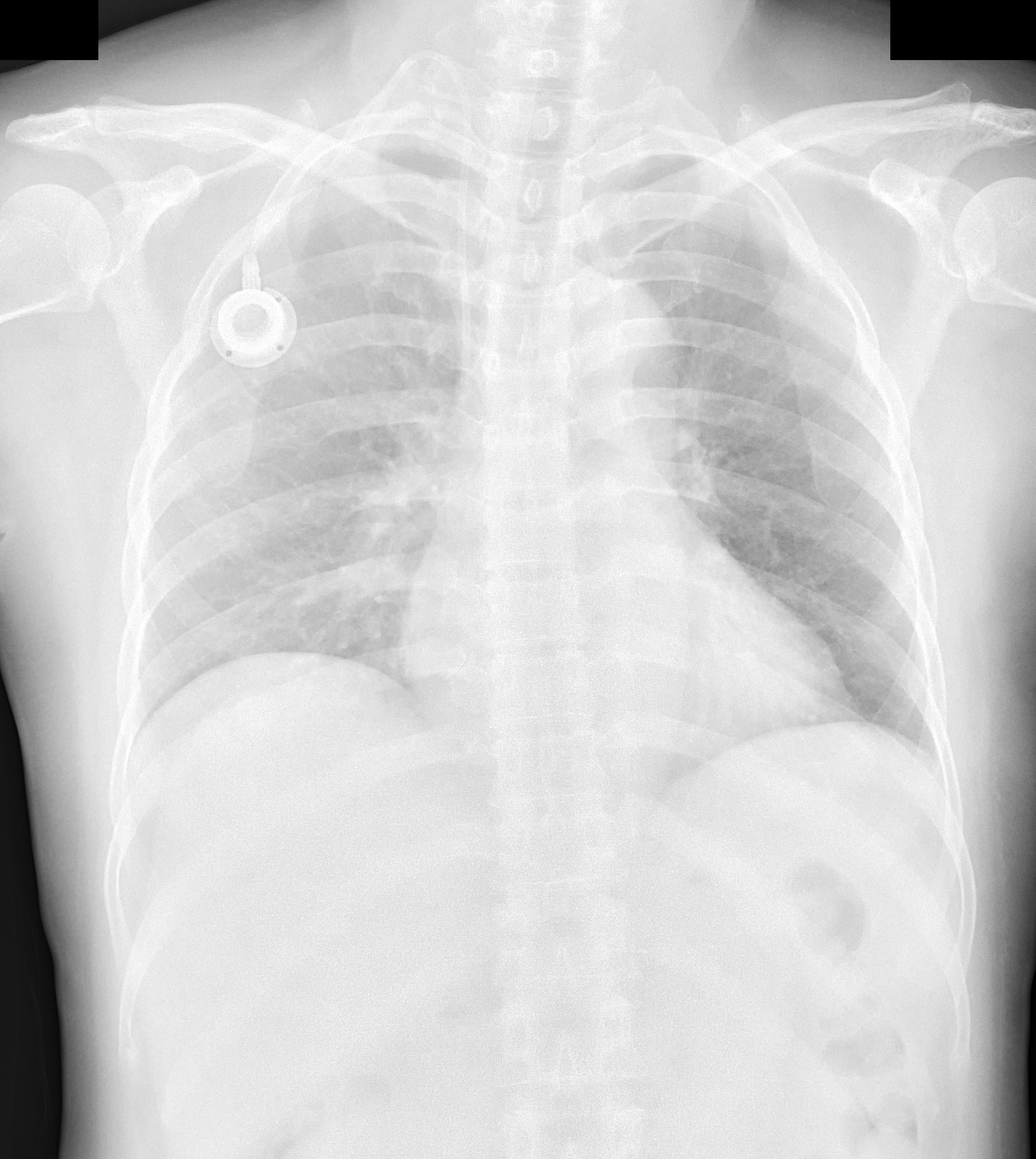Aortic enlargement: (554, 257, 676, 442)
